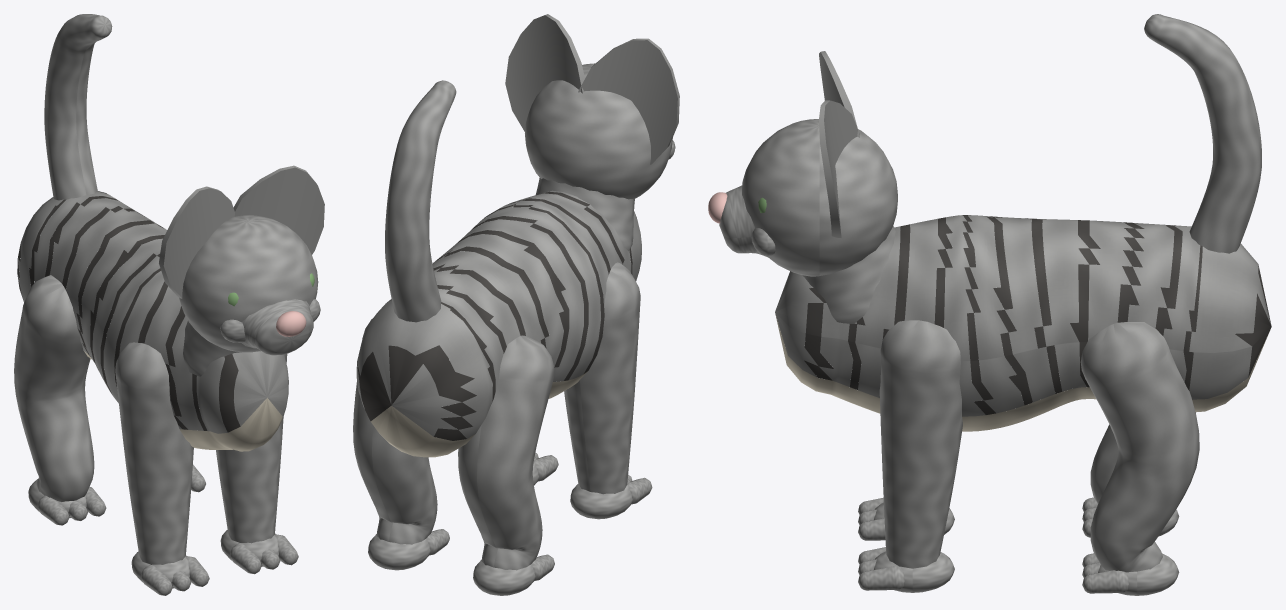
Rendered from pets-and-companions-hd-kitten-4e139a0a__28150.glb.
3 renders of one model, left to right at view 1: azimuth 30°, elevation 25°; view 2: azimuth 150°, elevation 25°; view 3: azimuth 270°, elevation 25°, orthographic. The views are drawn at different scales.
Visible parts, largest first — view 1: kitten; view 2: kitten; view 3: kitten.
Boxes of the visible parts, box(x1,y1,x2,y2) form: kitten: box(14, 14, 324, 595); kitten: box(353, 14, 679, 595); kitten: box(708, 14, 1271, 595).
Size of the model in its own units: 0.0867 by 0.2302 by 0.2145.
6 materials, 3 textured.
